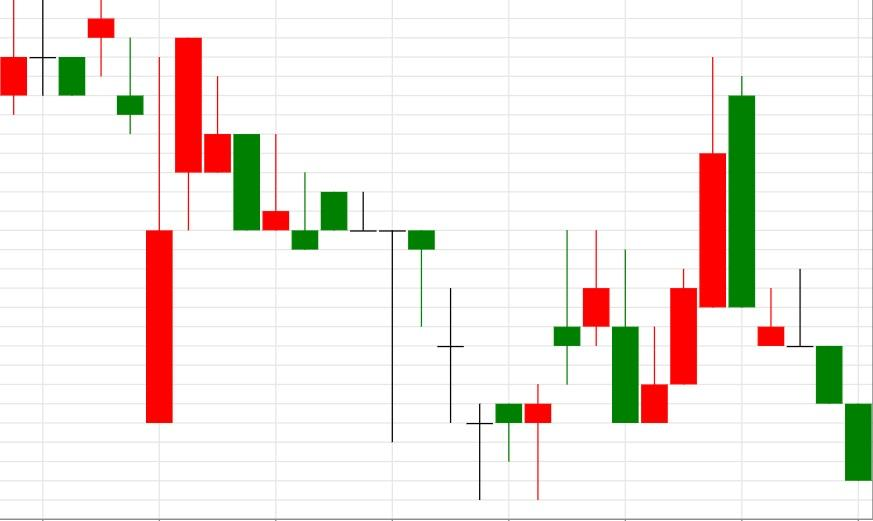hammer_rise: (320, 191, 523, 500), (320, 191, 436, 443)
